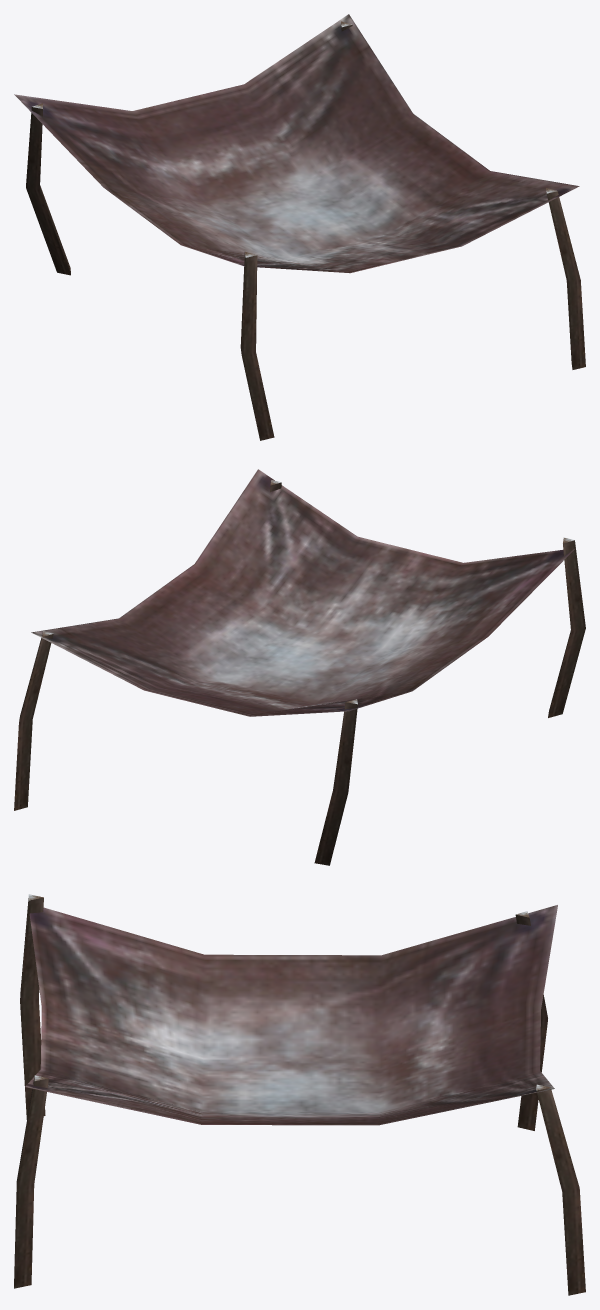
The model's file is yw_xuesebingfeng_zhangpeng.FBX.
3 views of the same model, one above another, from view 1: azimuth 30°, elevation 25°; view 2: azimuth 150°, elevation 25°; view 3: azimuth 270°, elevation 25° (orthographic). The views are drawn at different scales.
Visible parts, largest first — view 1: yw_xuesebingfeng_zhangpeng; view 2: yw_xuesebingfeng_zhangpeng; view 3: yw_xuesebingfeng_zhangpeng.
Part boxes in pixels (left/top/right/bottom): yw_xuesebingfeng_zhangpeng: left=14, top=14, right=585, bottom=440; yw_xuesebingfeng_zhangpeng: left=14, top=469, right=585, bottom=865; yw_xuesebingfeng_zhangpeng: left=14, top=894, right=585, bottom=1295.
Bounding box in the file's own units: 612 × 307 × 756.
